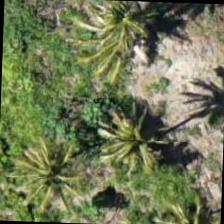Kelapa_Sawit: (85, 87, 178, 180), (73, 0, 167, 77), (0, 134, 80, 223), (139, 175, 222, 223)
